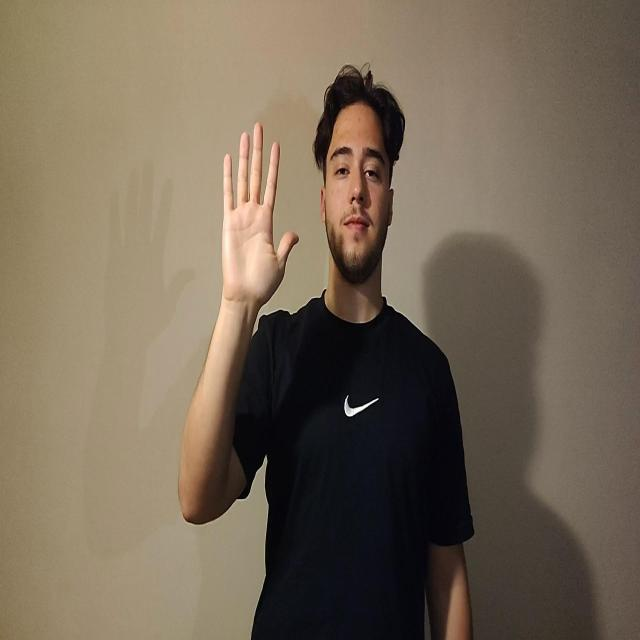hello: (220, 121, 299, 312)
